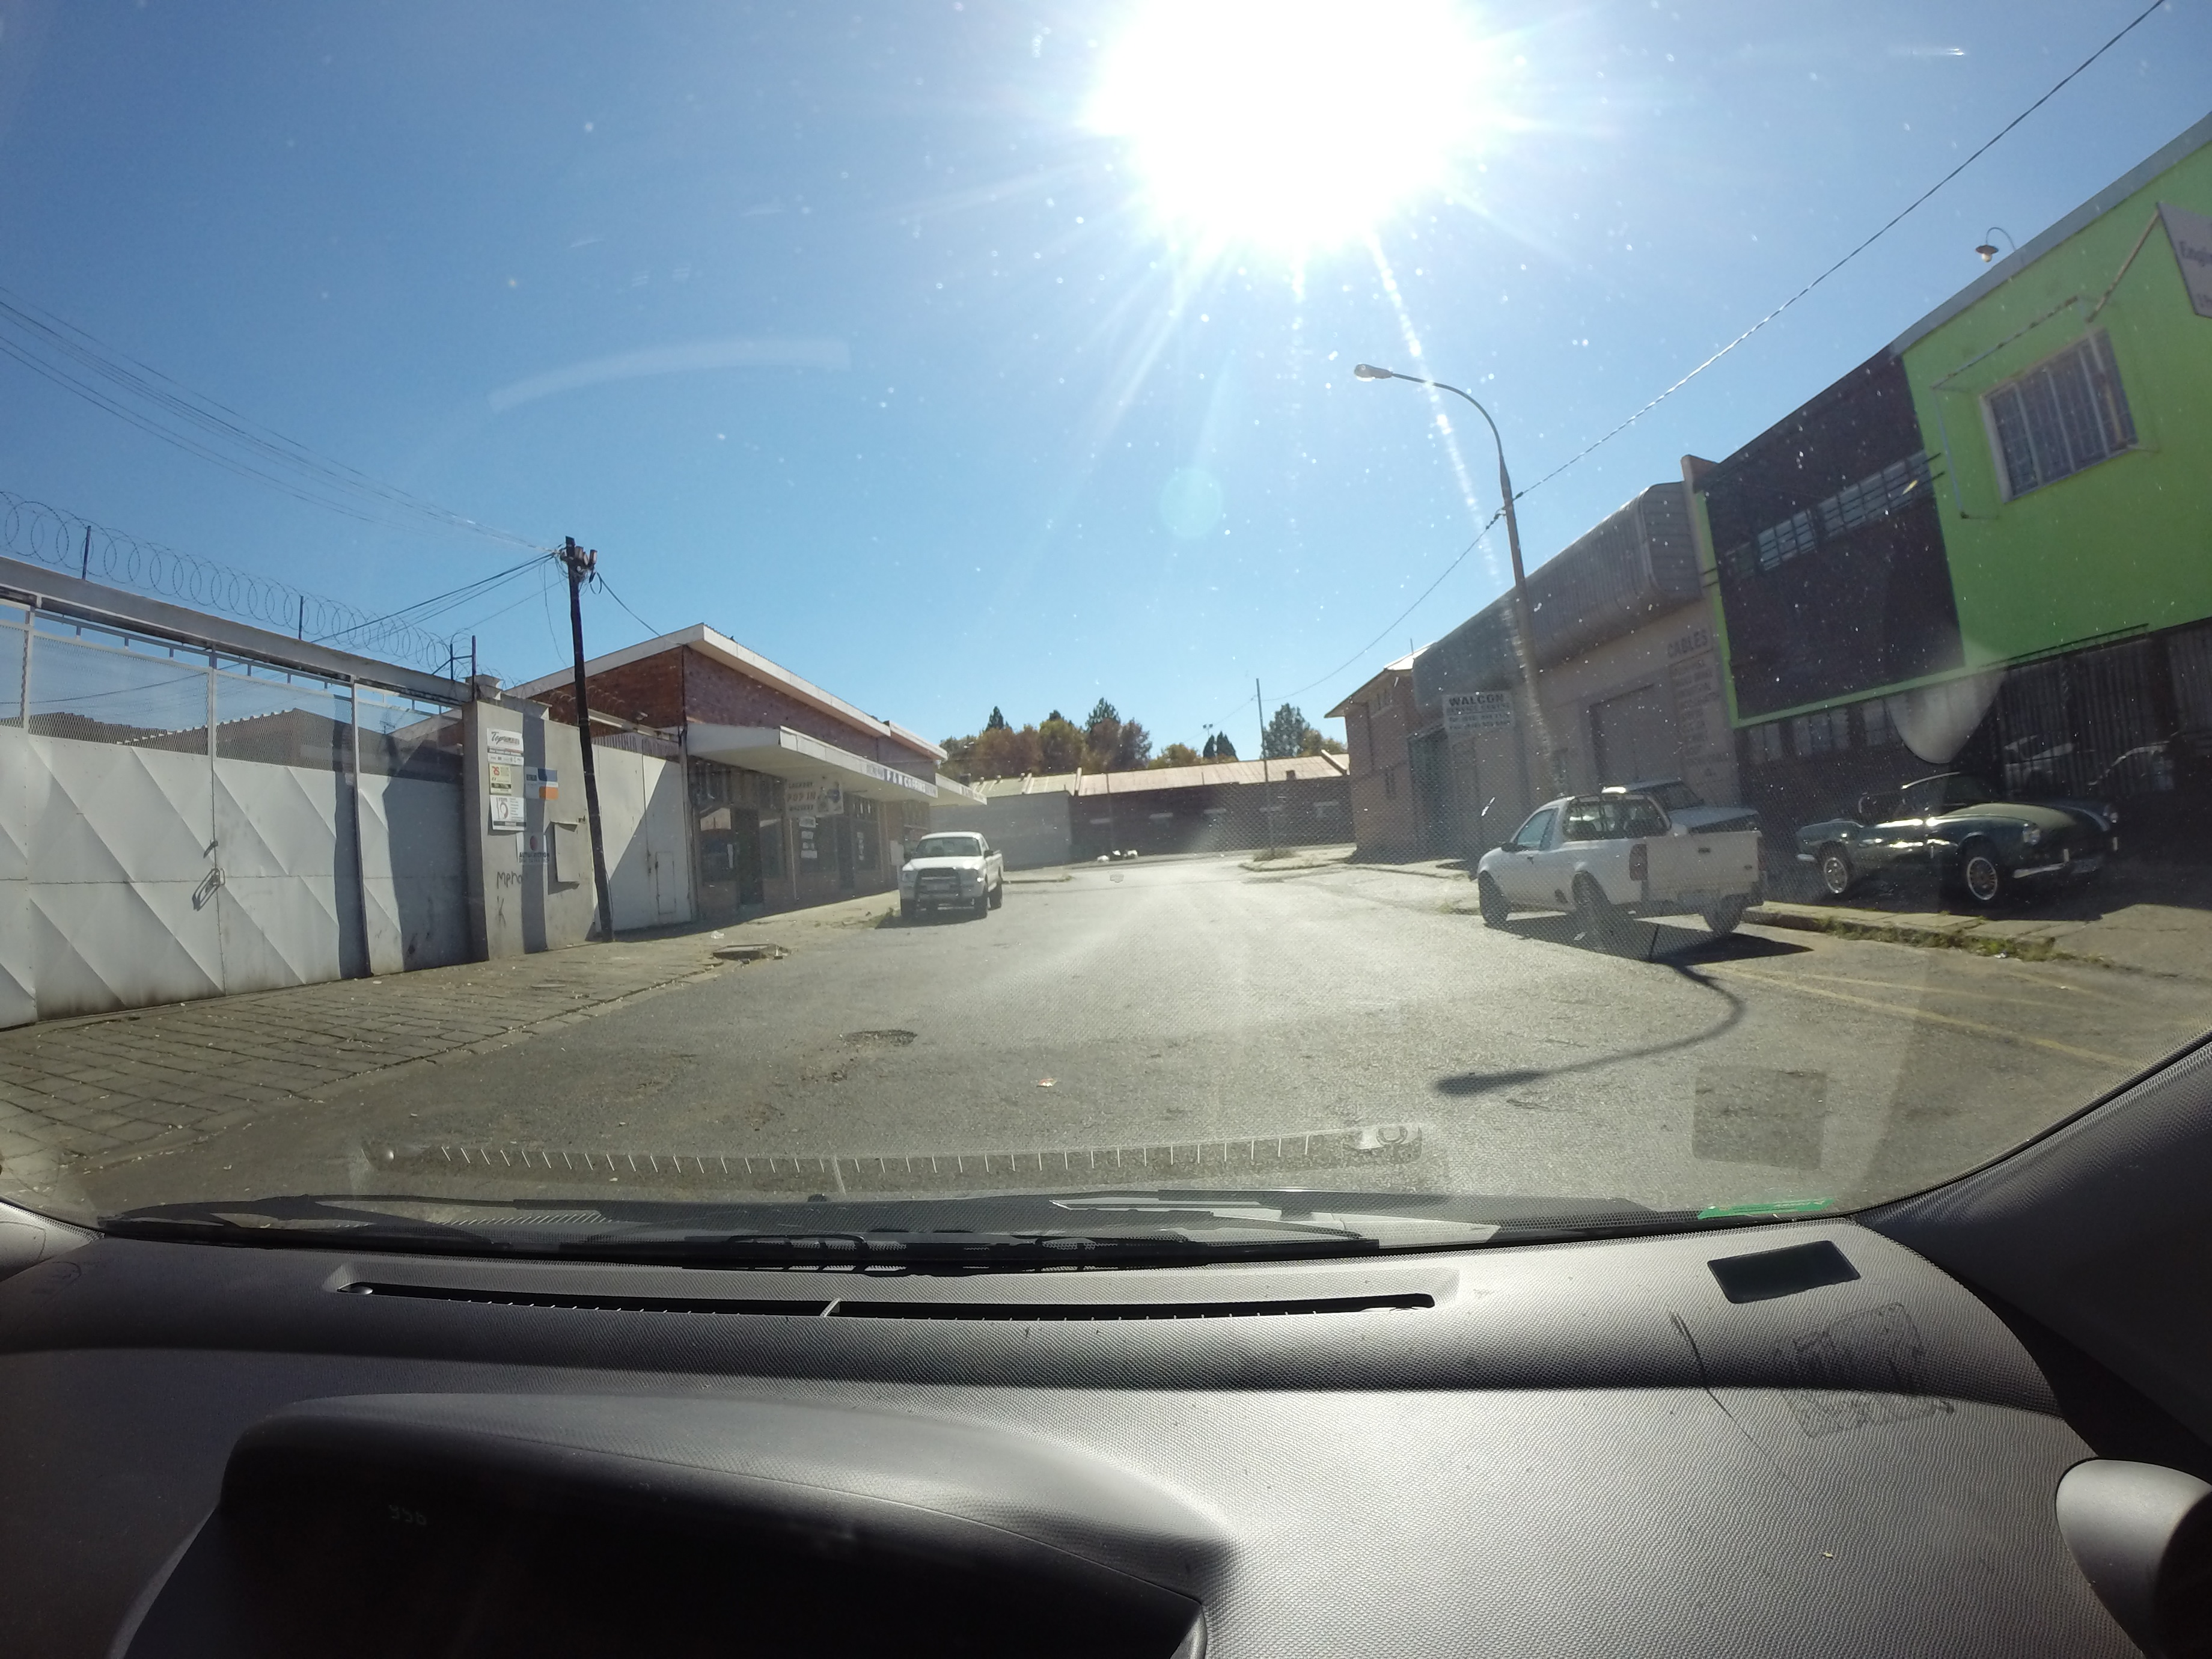pothole: (801, 997, 977, 1115)
